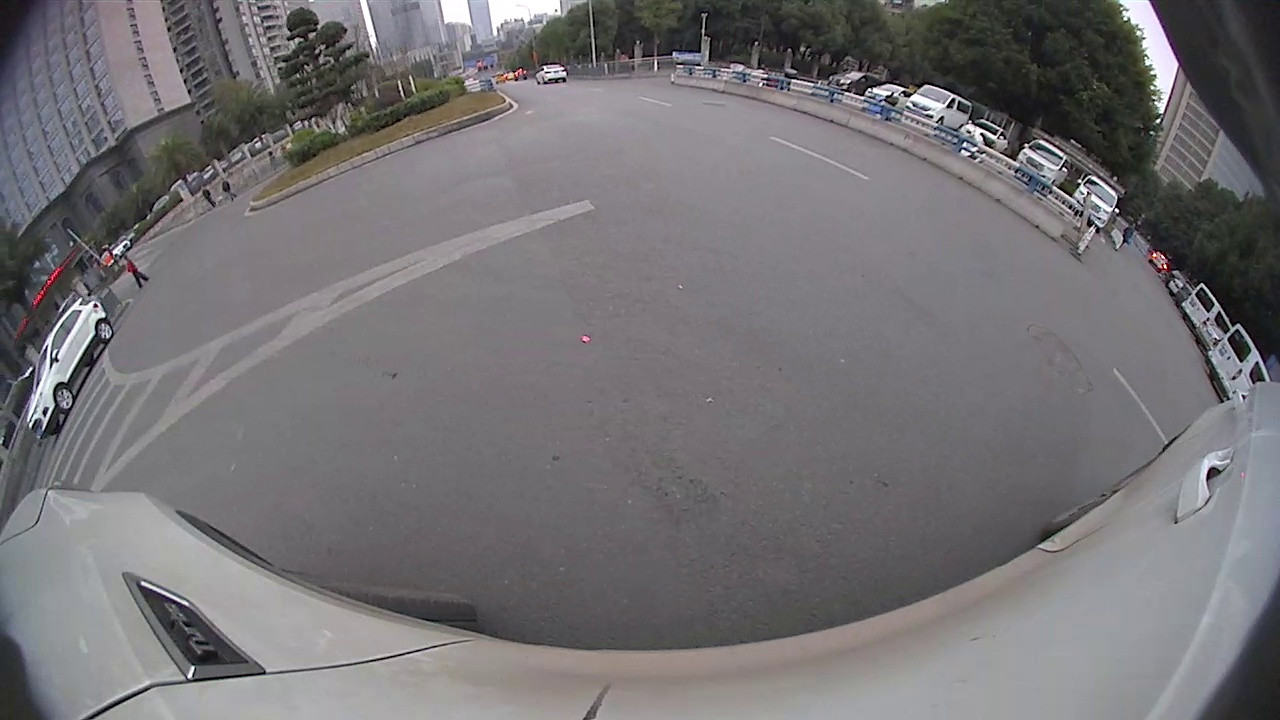car: (24, 295, 118, 440), (1206, 320, 1260, 399), (1179, 280, 1234, 349), (902, 82, 975, 133), (1017, 136, 1076, 188), (1070, 171, 1120, 232), (953, 118, 1013, 154)
front: (53, 385, 75, 411)
rear: (94, 317, 115, 342)
